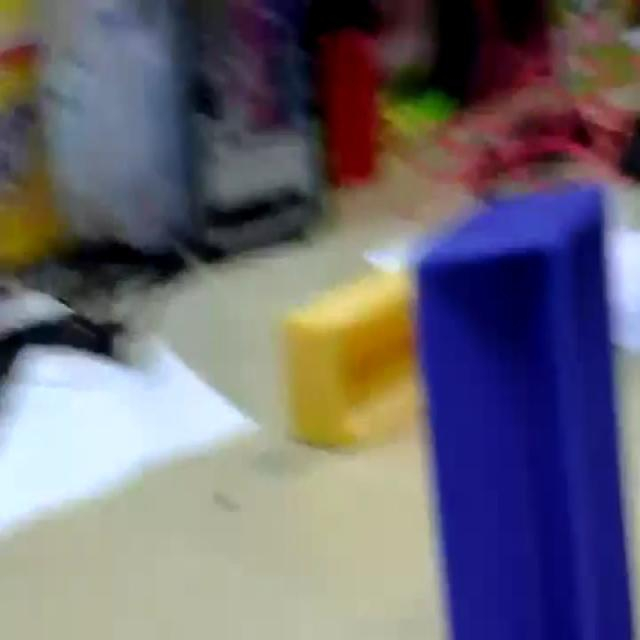blue_block: (414, 181, 633, 636)
yellow_block: (281, 265, 418, 448)
